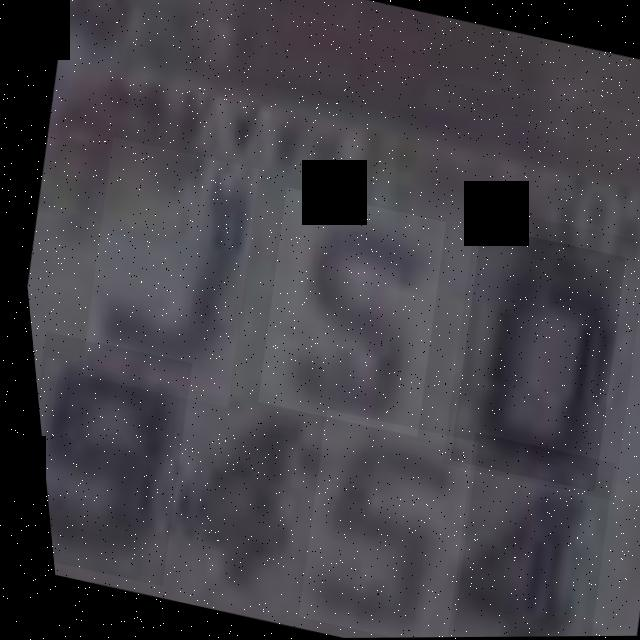4: (136, 364, 342, 629), (413, 432, 617, 638)
5: (270, 407, 483, 639)
9: (25, 330, 201, 586)
J: (55, 136, 273, 408), (422, 226, 638, 493)
O: (413, 204, 640, 503)
S: (233, 187, 457, 438)
